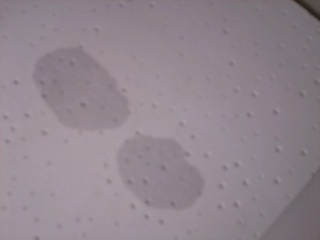Water_detected: (51, 63, 176, 192)
